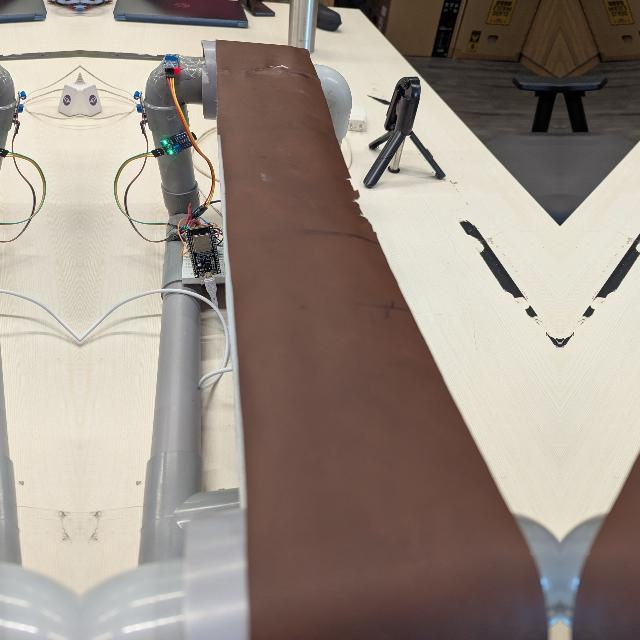edge_damage: (336, 164, 380, 238)
joint_damage: (261, 57, 297, 77)
